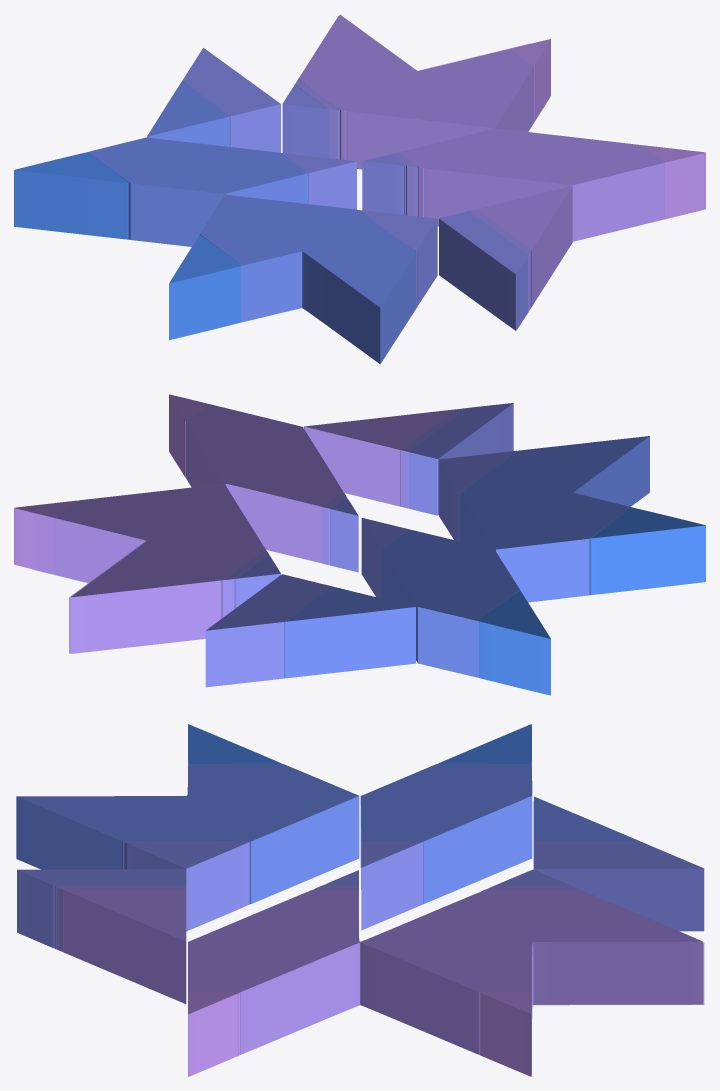
File: kolkative.glb
The picture shows the model from 3 angles, top to bottom: view 1: azimuth 30°, elevation 25°; view 2: azimuth 150°, elevation 25°; view 3: azimuth 270°, elevation 25°; orthographic projection. The views are drawn at different scales.
Visible parts, largest first — view 1: Node1, Node3, Node4, Node12, Node7, Node13, Node6, Node2, Node5, Node16, Node10, Node8 (+6 smaller); view 2: Node1, Node3, Node4, Node5, Node13, Node6, Node2, Node12, Node7, Node23, Node15, Node8 (+7 smaller); view 3: Node1, Node3, Node4, Node2, Node23, Node6, Node8, Node7, Node9, Node16, Node15, Node5 (+4 smaller).
Boxes of the visible parts, x1=… form: Node1: x1=298, y1=15, x2=664, y2=241; Node3: x1=200, y1=194, x2=415, y2=364; Node4: x1=87, y1=137, x2=308, y2=246; Node12: x1=14, y1=152, x2=129, y2=239; Node7: x1=439, y1=211, x2=528, y2=330; Node13: x1=169, y1=235, x2=242, y2=340; Node6: x1=182, y1=48, x2=280, y2=152; Node2: x1=476, y1=186, x2=572, y2=306; Node5: x1=147, y1=81, x2=230, y2=146; Node16: x1=642, y1=145, x2=705, y2=219; Node10: x1=282, y1=85, x2=328, y2=158; Node8: x1=359, y1=210, x2=437, y2=308; Node1: x1=55, y1=404, x2=343, y2=653; Node3: x1=460, y1=436, x2=649, y2=602; Node4: x1=382, y1=529, x2=519, y2=677; Node5: x1=285, y1=586, x2=415, y2=678; Node13: x1=590, y1=507, x2=705, y2=594; Node6: x1=205, y1=574, x2=332, y2=687; Node2: x1=304, y1=409, x2=455, y2=506; Node12: x1=477, y1=590, x2=550, y2=695; Node7: x1=408, y1=403, x2=513, y2=515; Node23: x1=33, y1=513, x2=145, y2=653; Node15: x1=14, y1=500, x2=77, y2=574; Node8: x1=439, y1=450, x2=517, y2=541; Node1: x1=188, y1=889, x2=702, y2=1054; Node3: x1=16, y1=763, x2=359, y2=904; Node4: x1=360, y1=764, x2=532, y2=904; Node2: x1=63, y1=889, x2=186, y2=1003; Node23: x1=533, y1=942, x2=704, y2=1008; Node6: x1=533, y1=841, x2=704, y2=931; Node8: x1=123, y1=841, x2=249, y2=931; Node7: x1=17, y1=869, x2=186, y2=948; Node9: x1=361, y1=841, x2=423, y2=930; Node16: x1=188, y1=992, x2=240, y2=1076; Node15: x1=479, y1=992, x2=531, y2=1076; Node5: x1=533, y1=796, x2=639, y2=841.
Size of what is drawn, in the model's own units: 99.2 by 10 by 100.
